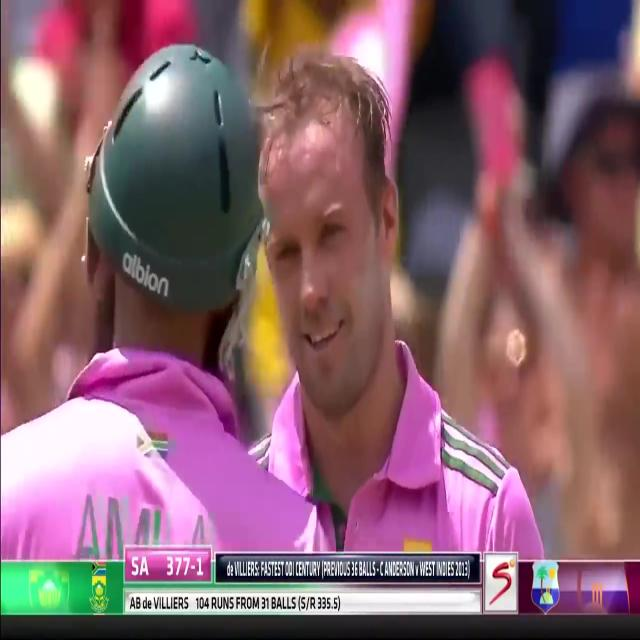Ball: (0, 42, 487, 555)
